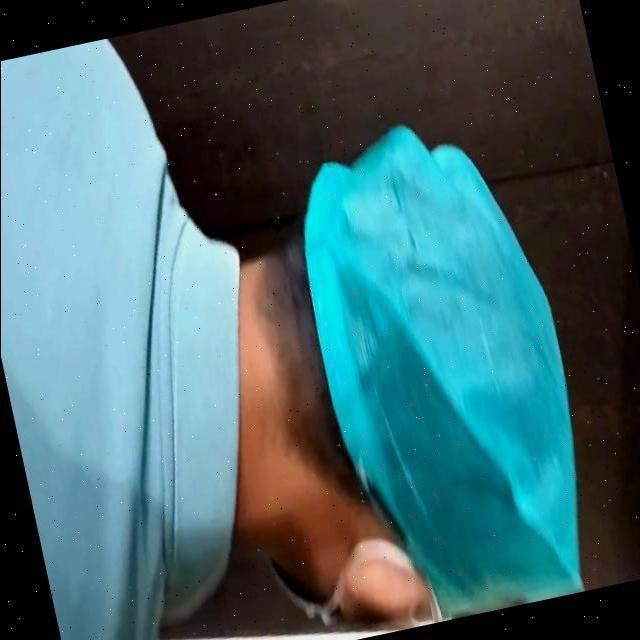gloves: (304, 128, 606, 618)
